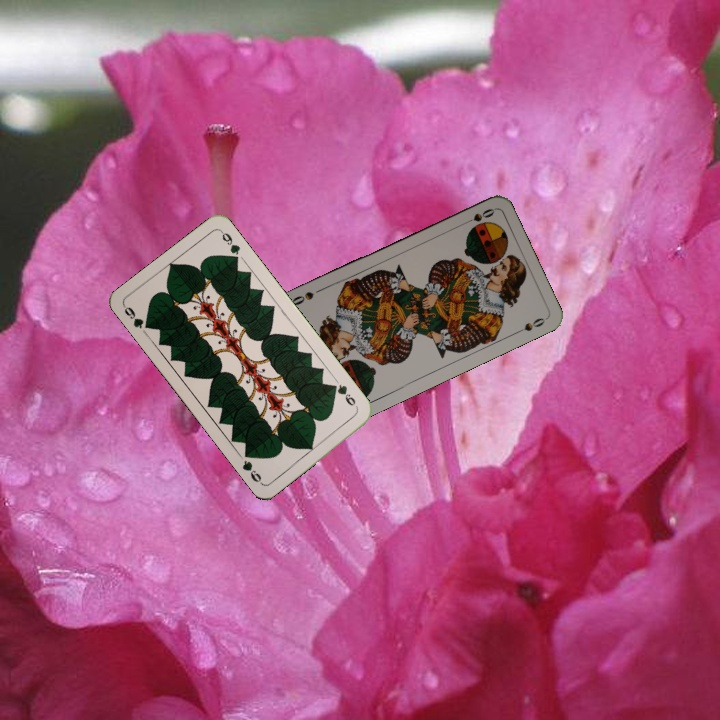G9: (328, 380, 361, 412), (120, 302, 154, 332)
SO: (459, 204, 497, 228)
